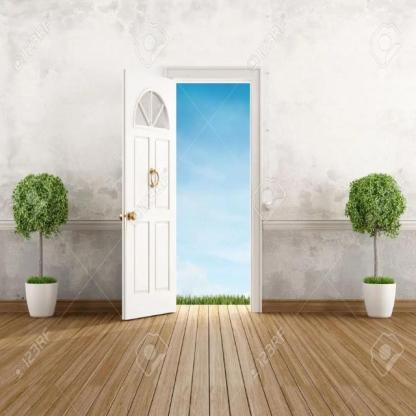door: (118, 44, 266, 334)
